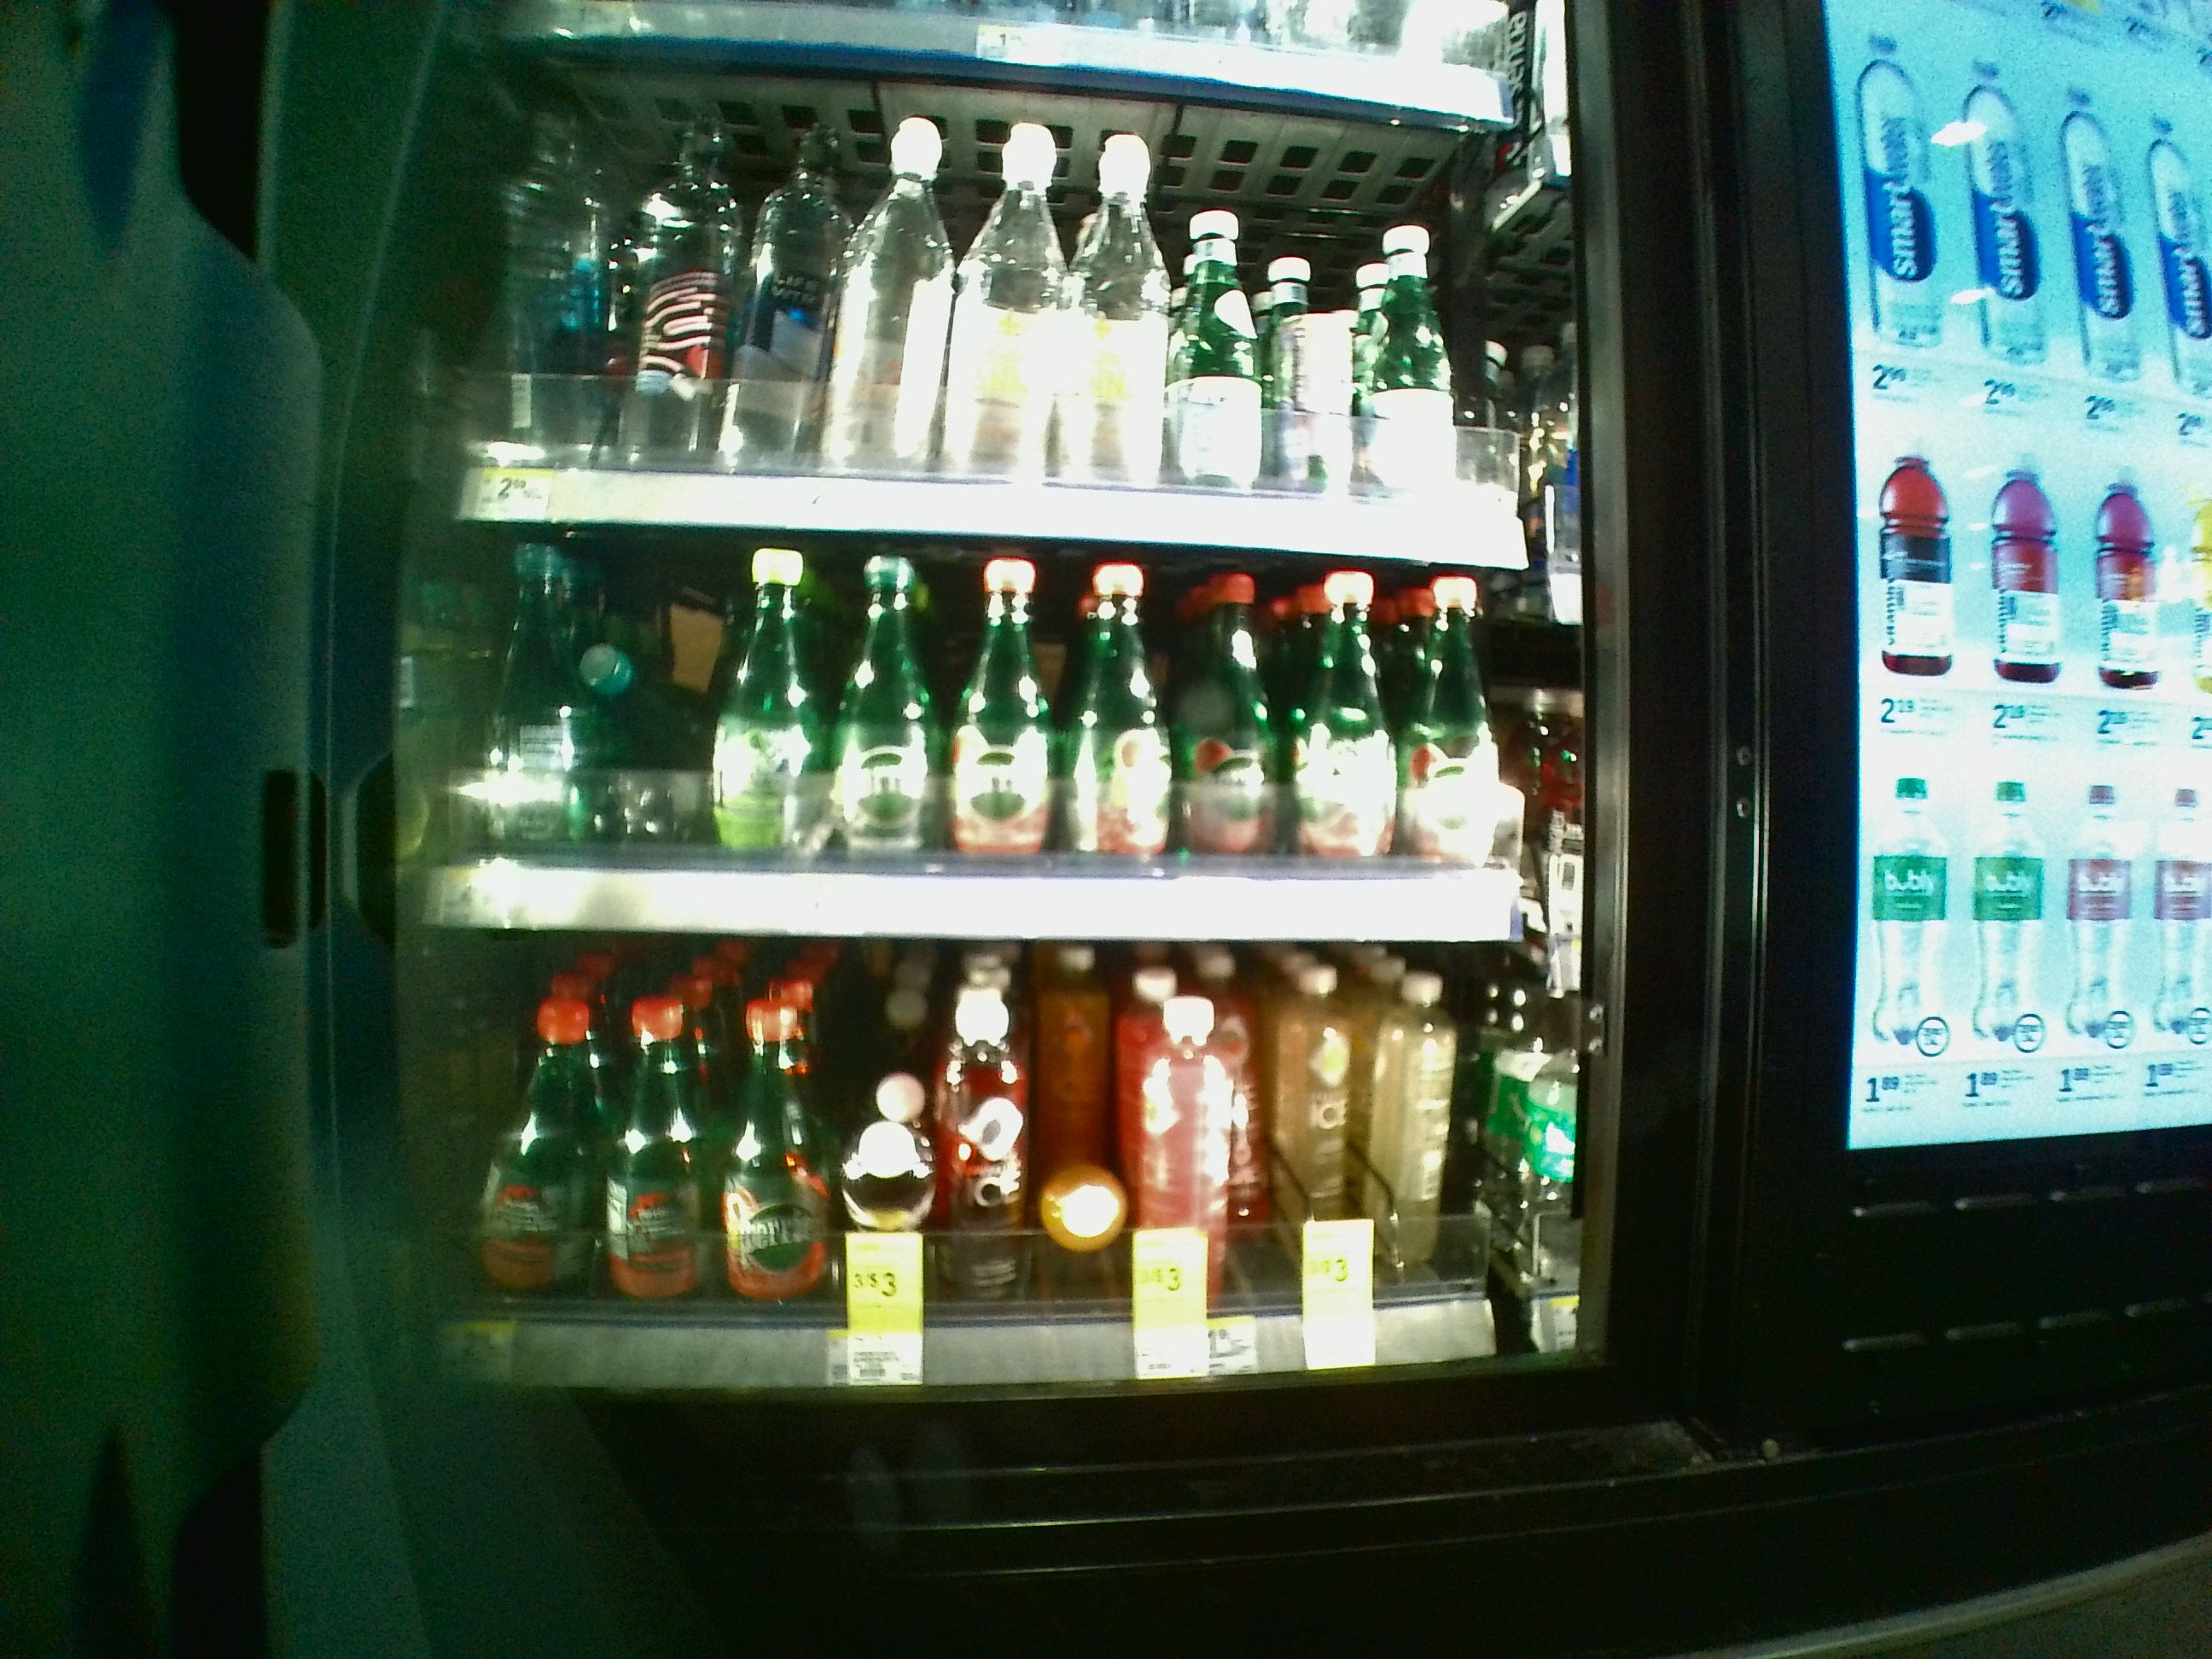Shelf: (421, 929, 1609, 1410), (428, 521, 1601, 943)
